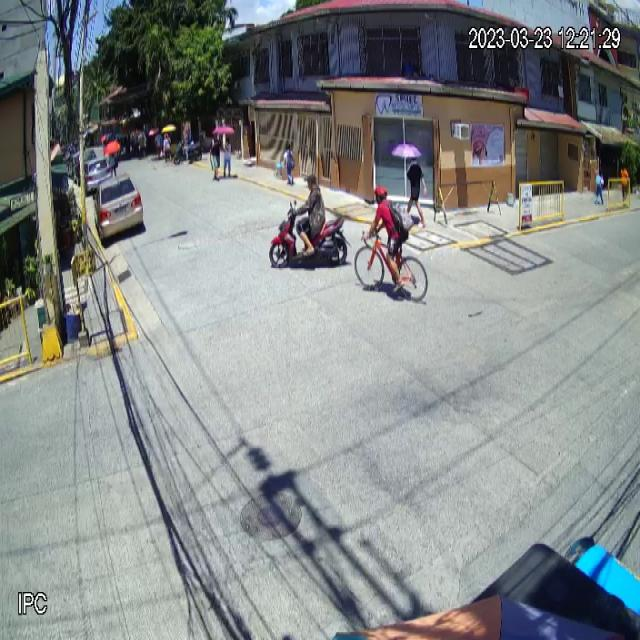Motorcycle: (269, 198, 353, 268)
